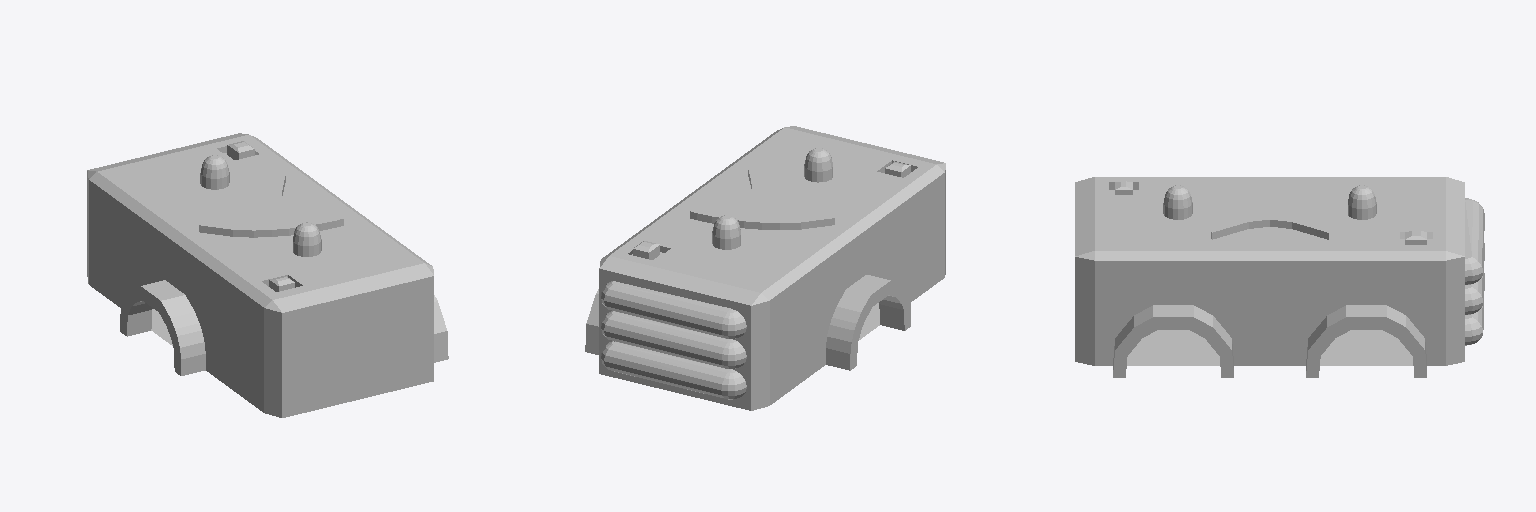
The model's file is OrGate.obj.
3 renders of one model, left to right at view 1: azimuth 30°, elevation 25°; view 2: azimuth 150°, elevation 25°; view 3: azimuth 270°, elevation 25°, orthographic.
Visible parts, largest first — view 1: Gate_OR_Cube.003; view 2: Gate_OR_Cube.003; view 3: Gate_OR_Cube.003.
Part boxes in pixels (x1,y1,x2,y2): Gate_OR_Cube.003: (87,133,448,417); Gate_OR_Cube.003: (585,126,945,410); Gate_OR_Cube.003: (1075,177,1484,377).
Bounding box in the file's own units: 2.58 × 1.56 × 4.2.